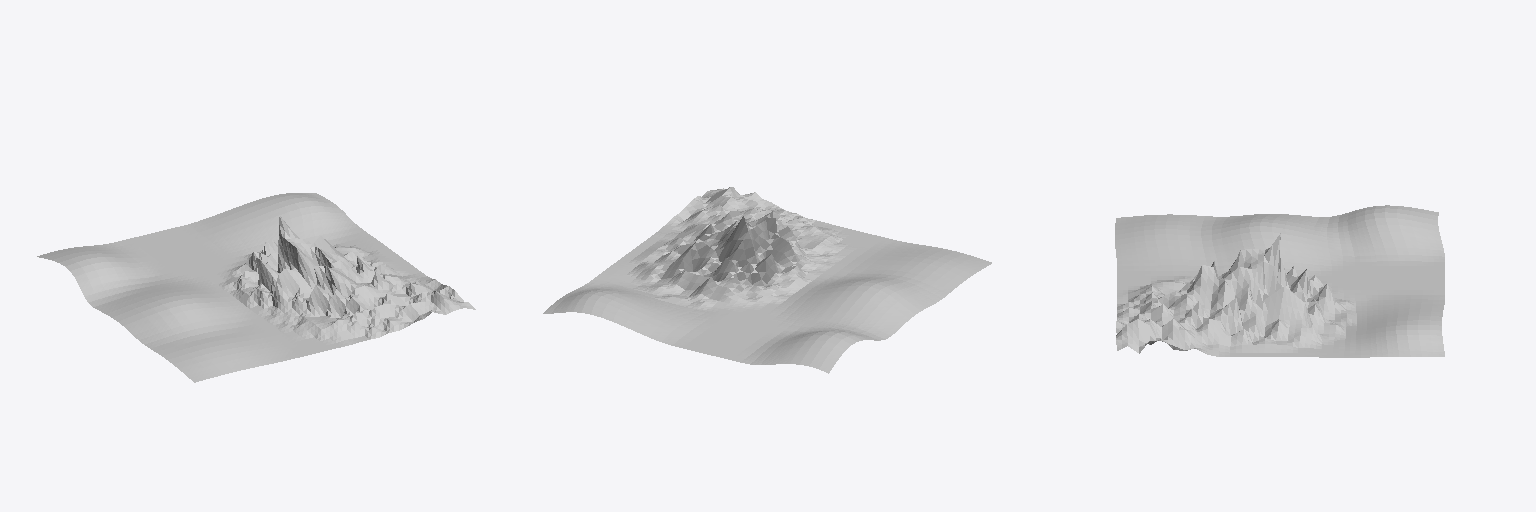
The model's file is terrain.obj.
3 views of the same model, side by side, from view 1: azimuth 30°, elevation 25°; view 2: azimuth 150°, elevation 25°; view 3: azimuth 270°, elevation 25° (orthographic).
Visible parts, largest first — view 1: Grid; view 2: Grid; view 3: Grid.
Part boxes in pixels (bbox=[...]): Grid: bbox=[37, 193, 475, 382]; Grid: bbox=[543, 187, 991, 373]; Grid: bbox=[1115, 205, 1444, 357].
Size of the model in its own units: 6.07 by 1.41 by 6.04.